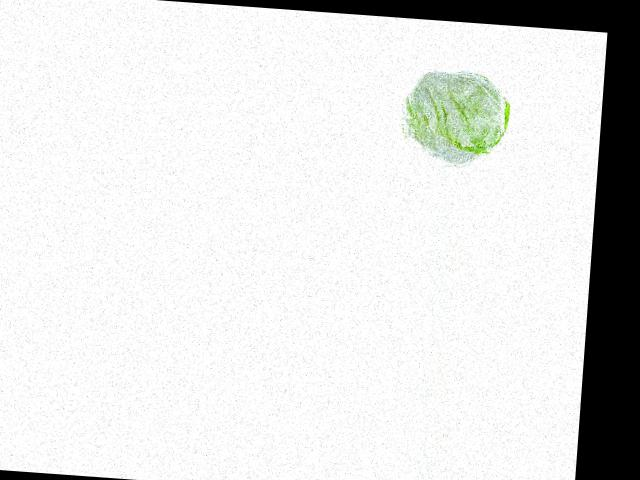lettuce: (398, 71, 510, 168)
